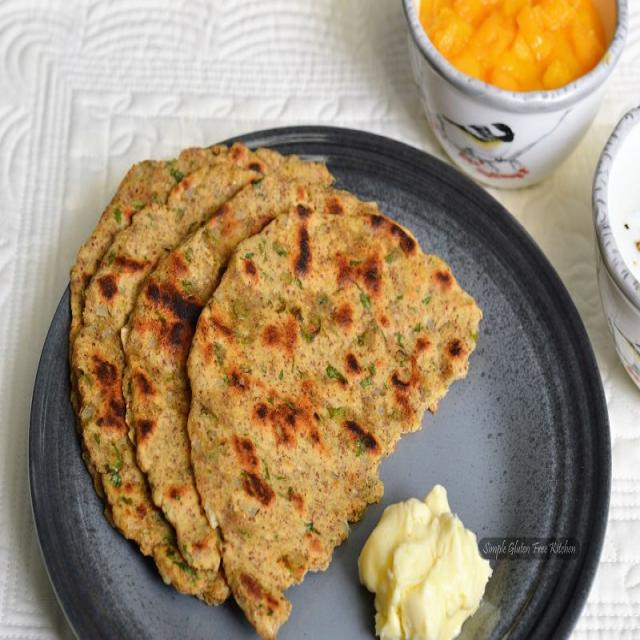paratha: (187, 195, 481, 639), (126, 165, 367, 568)
